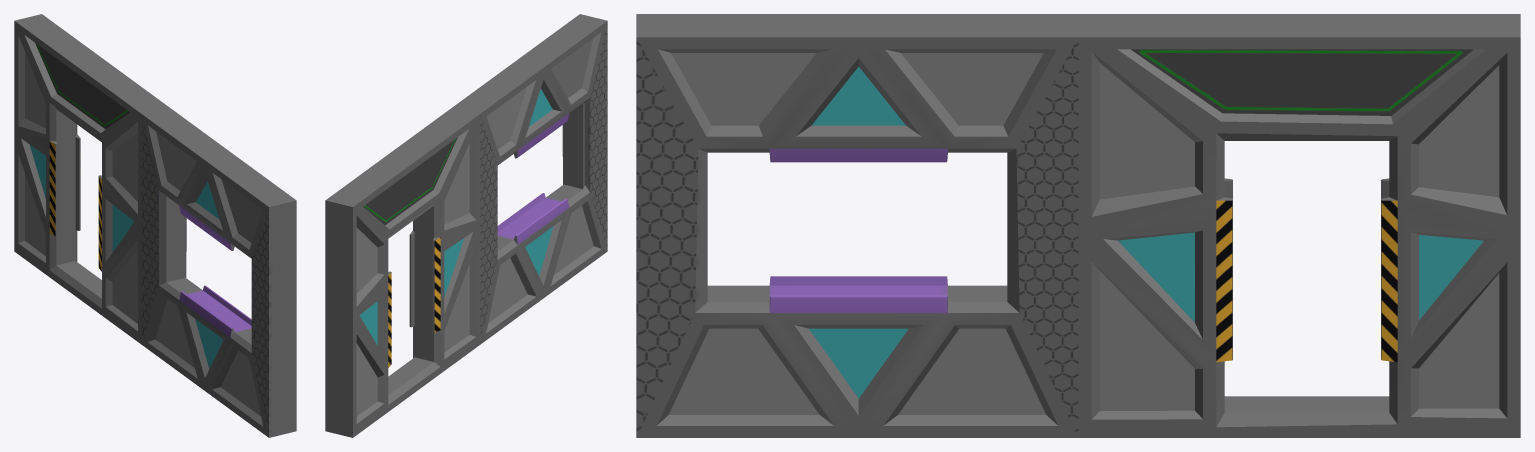
The model's file is SM_B4_Wall2_SM_B4_Wall2.fbx.
The picture shows the model from 3 angles, left to right: view 1: azimuth 30°, elevation 25°; view 2: azimuth 150°, elevation 25°; view 3: azimuth 270°, elevation 25°; orthographic projection. The views are drawn at different scales.
Visible parts, largest first — view 1: SM_B4_Wall2_SM_B4_Wall2; view 2: SM_B4_Wall2_SM_B4_Wall2; view 3: SM_B4_Wall2_SM_B4_Wall2.
Boxes of the visible parts, <box> form: SM_B4_Wall2_SM_B4_Wall2: <box>14,14,296,437</box>; SM_B4_Wall2_SM_B4_Wall2: <box>325,14,607,437</box>; SM_B4_Wall2_SM_B4_Wall2: <box>636,14,1520,437</box>.
Size of the model in its own units: 50.77 by 812 by 406.
Materials: 1 (1 with a texture image).
